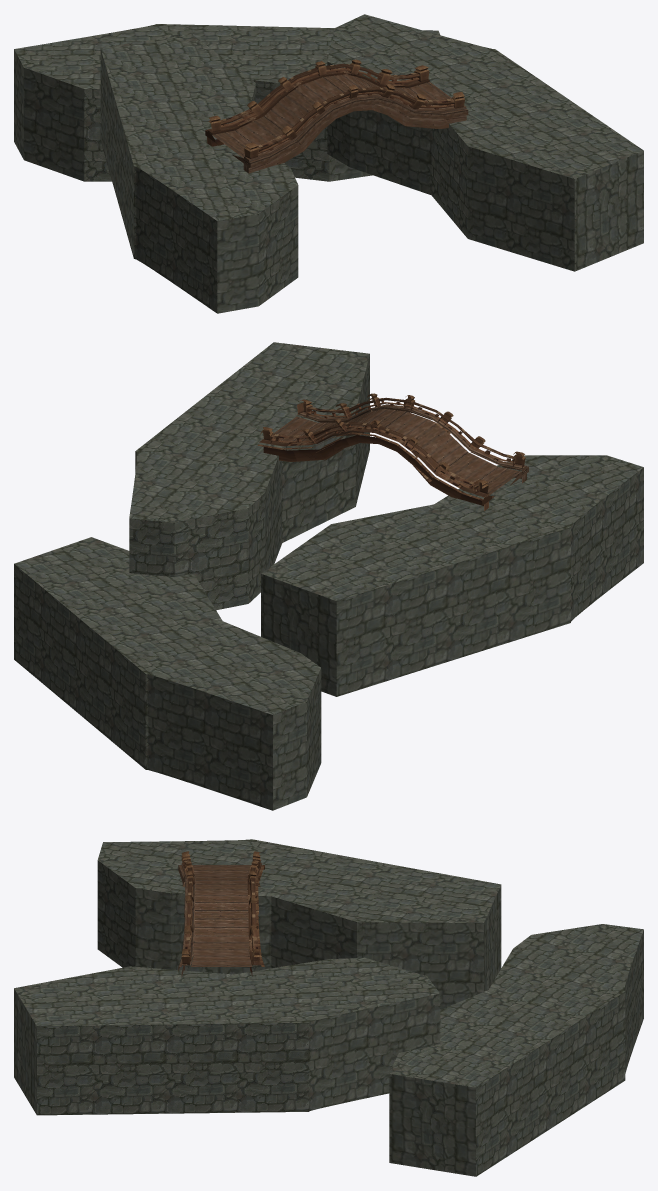
Rendered from PVEchangjing01.FBX.
The picture shows the model from 3 angles, top to bottom: view 1: azimuth 30°, elevation 25°; view 2: azimuth 150°, elevation 25°; view 3: azimuth 270°, elevation 25°; orthographic projection. The views are drawn at different scales.
Visible parts, largest first — view 1: Line03, Line08, Line09, Geoset_0_0_tex_07, Object17; view 2: Line08, Line09, Line03, Geoset_0_0_tex_07, Object17; view 3: Line03, Line09, Line08, Object17, Geoset_0_0_tex_07.
Part boxes in pixels (x1,y1,x2,y2): Line03: (327, 14, 643, 271); Line08: (100, 34, 298, 313); Line09: (14, 24, 439, 181); Geoset_0_0_tex_07: (205, 59, 468, 173); Object17: (212, 74, 451, 157); Line08: (261, 455, 643, 696); Line09: (14, 537, 321, 810); Line03: (129, 342, 369, 610); Geoset_0_0_tex_07: (257, 393, 528, 510); Object17: (273, 408, 521, 495); Line03: (14, 957, 440, 1115); Line09: (389, 924, 643, 1176); Line08: (97, 839, 501, 1009); Object17: (191, 865, 252, 966); Geoset_0_0_tex_07: (178, 851, 264, 977).
Size of the model in its own units: 58.21 by 26.85 by 78.31.
